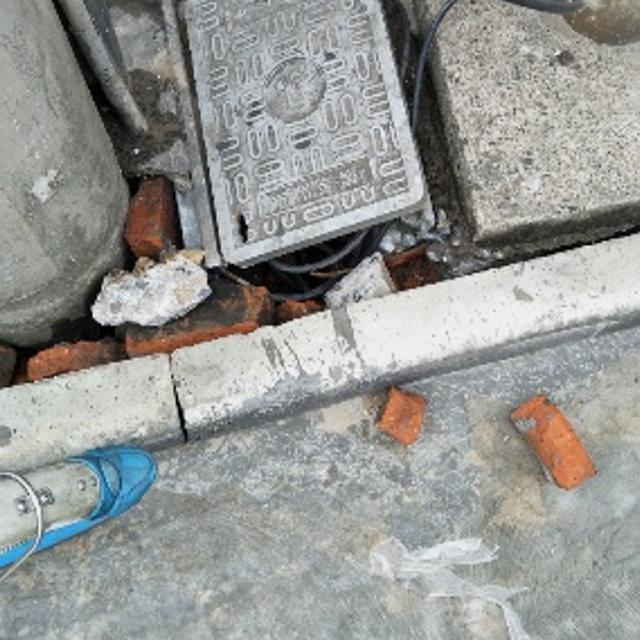uncovered: (153, 0, 430, 272)
